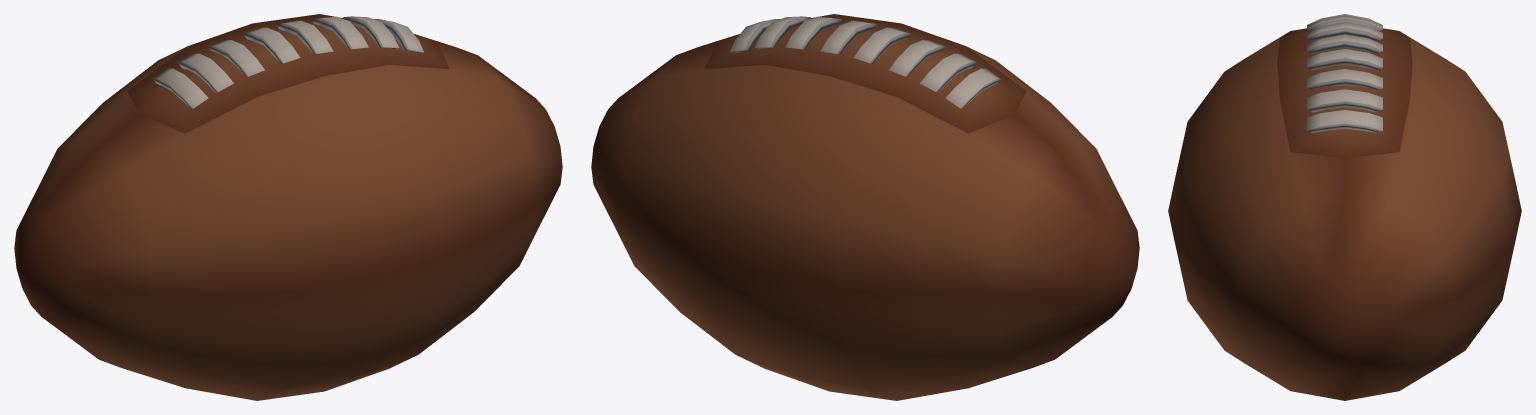
The model's file is human-sports-american-football_v1.fbx.
3 renders of one model, left to right at view 1: azimuth 30°, elevation 25°; view 2: azimuth 150°, elevation 25°; view 3: azimuth 270°, elevation 25°, orthographic. The views are drawn at different scales.
Parts seen in each view (by area): view 1: American Football_v1; view 2: American Football_v1; view 3: American Football_v1.
Boxes of the visible parts, bbox=[...] form: American Football_v1: bbox=[14, 14, 562, 400]; American Football_v1: bbox=[591, 14, 1139, 400]; American Football_v1: bbox=[1168, 14, 1521, 400].
Size of the model in its own units: 0.28 by 0.172 by 0.1688.
